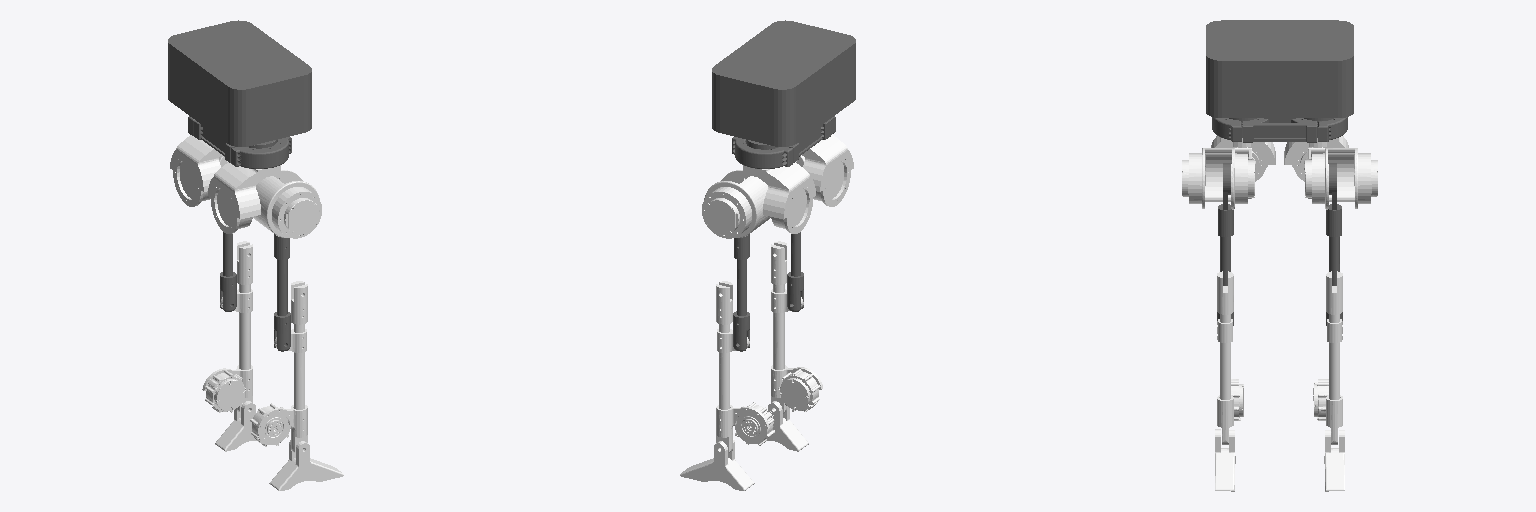
The robot description file, URDF, robot "YX-1":
<?xml version="1.0" encoding="utf-8"?>
<!-- This URDF was automatically created by SolidWorks to URDF Exporter! Originally created by Stephen Brawner (brawner@gmail.com) 
     Commit Version: 1.6.0-4-g7f85cfe  Build Version: 1.6.7995.38578
     For more information, please see http://wiki.ros.org/sw_urdf_exporter -->
<robot
  name="YX-1">
  <link
    name="base_link">
    <inertial>
      <origin
        xyz="3.52589881977561E-05 -1.21618571169921E-05 0.0608415705761093"
        rpy="0 0 0" />
      <mass
        value="3.08898899294127" />
      <inertia
        ixx="0.0219224912970811"
        ixy="-7.72865524978861E-09"
        ixz="7.16069762909807E-08"
        iyy="0.0130807934439612"
        iyz="-8.11668167240751E-07"
        izz="0.0264840545104941" />
    </inertial>
    <visual>
      <origin
        xyz="0 0 0"
        rpy="0 0 0" />
      <geometry>
        <mesh
          filename="package://YX-1/meshes/base_link.STL" />
      </geometry>
      <material
        name="">
        <color
          rgba="0.498039215686275 0.498039215686275 0.498039215686275 1" />
      </material>
    </visual>
    <collision>
      <origin
        xyz="0 0 0"
        rpy="0 0 0" />
      <geometry>
        <mesh
          filename="package://YX-1/meshes/base_link.STL" />
      </geometry>
    </collision>
  </link>
  <link
    name="left_yaw_Link">
    <inertial>
      <origin
        xyz="-0.0350037080503791 -0.000456591567301476 0.0372463735701034"
        rpy="0 0 0" />
      <mass
        value="0.395555517395699" />
      <inertia
        ixx="0.000620205903518703"
        ixy="1.29896843186358E-06"
        ixz="-0.000164142746894831"
        iyy="0.000520634597553032"
        iyz="-2.11739117204493E-06"
        izz="0.000575959612553862" />
    </inertial>
    <visual>
      <origin
        xyz="0 0 0"
        rpy="0 0 0" />
      <geometry>
        <mesh
          filename="package://YX-1/meshes/left_yaw_Link.STL" />
      </geometry>
      <material
        name="">
        <color
          rgba="1 1 1 1" />
      </material>
    </visual>
    <collision>
      <origin
        xyz="0 0 0"
        rpy="0 0 0" />
      <geometry>
        <mesh
          filename="package://YX-1/meshes/left_yaw_Link.STL" />
      </geometry>
    </collision>
  </link>
  <joint
    name="left_yaw_joint"
    type="revolute">
    <origin
      xyz="0.000 0.071324 -0.1324"
      rpy="0 0 0" />
    <parent
      link="base_link" />
    <child
      link="left_yaw_Link" />
    <axis
      xyz="0 0 1" />
    <limit
      lower="-0.43"
      upper="0.43"
      effort="20"
      velocity="20.94" />
  </joint>
  <link
    name="left_roll_Link">
    <inertial>
      <origin
        xyz="0.0490548209357755 0.0415197888784591 2.64908123400603E-06"
        rpy="0 0 0" />
      <mass
        value="0.614935433967936" />
      <inertia
        ixx="0.000679419603816697"
        ixy="-3.83852020499992E-05"
        ixz="1.42348828039911E-09"
        iyy="0.000915357380420451"
        iyz="-1.73941512323098E-08"
        izz="0.000649397167942527" />
    </inertial>
    <visual>
      <origin
        xyz="0 0 0"
        rpy="0 0 0" />
      <geometry>
        <mesh
          filename="package://YX-1/meshes/left_roll_Link.STL" />
      </geometry>
      <material
        name="">
        <color
          rgba="1 1 1 1" />
      </material>
    </visual>
    <collision>
      <origin
        xyz="0 0 0"
        rpy="0 0 0" />
      <geometry>
        <mesh
          filename="package://YX-1/meshes/left_roll_Link.STL" />
      </geometry>
    </collision>
  </link>
  <joint
    name="left_roll_joint"
    type="revolute">
    <origin
      xyz="-0.024498 -0.000 0"
      rpy="0 0 0" />
    <parent
      link="left_yaw_Link" />
    <child
      link="left_roll_Link" />
    <axis
      xyz="1 0. 0" />
    <limit
      lower="-0.32"
      upper="0.32"
      effort="33.5"
      velocity="21" />
  </joint>
  <link
    name="left_pitch_Link">
    <inertial>
      <origin
        xyz="-0.000175167874882766 0.0134604425761448 -0.121726001202457"
        rpy="0 0 0" />
      <mass
        value="0.191560909336763" />
      <inertia
        ixx="0.000309384466899546"
        ixy="-1.58911049667417E-07"
        ixz="-1.18273702367413E-07"
        iyy="0.000321577323382544"
        iyz="8.79412629086622E-06"
        izz="3.40195094387065E-05" />
    </inertial>
    <visual>
      <origin
        xyz="0 0 0"
        rpy="0 0 0" />
      <geometry>
        <mesh
          filename="package://YX-1/meshes/left_pitch_Link.STL" />
      </geometry>
      <material
        name="">
        <color
          rgba="0.498039215686275 0.498039215686275 0.498039215686275 1" />
      </material>
    </visual>
    <collision>
      <origin
        xyz="0 0 0"
        rpy="0 0 0" />
      <geometry>
        <mesh
          filename="package://YX-1/meshes/left_pitch_Link.STL" />
      </geometry>
    </collision>
  </link>
  <joint
    name="left_pitch_joint"
    type="revolute">
    <origin
      xyz="0.057794 0.016155 0"
      rpy="0 0 0" />
    <parent
      link="left_roll_Link" />
    <child
      link="left_pitch_Link" />
    <axis
      xyz="-0. 1.0 0" />
    <limit
      lower="-1.57"
      upper="1.57"
      effort="20"
      velocity="20.94" />
  </joint>
  <link
    name="left_knee_Link">
    <inertial>
      <origin
        xyz="0.0165804991795376 -0.0061062790901476 -0.0984502346022404"
        rpy="0 0 0" />
      <mass
        value="0.343457668179325" />
      <inertia
        ixx="0.000648958001306974"
        ixy="-2.59182818082286E-06"
        ixz="2.08662789533462E-05"
        iyy="0.000719817823739503"
        iyz="1.61695291664274E-06"
        izz="0.000108035679316845" />
    </inertial>
    <visual>
      <origin
        xyz="0 0 0"
        rpy="0 0 0" />
      <geometry>
        <mesh
          filename="package://YX-1/meshes/left_knee_Link.STL" />
      </geometry>
      <material
        name="">
        <color
          rgba="1 1 1 1" />
      </material>
    </visual>
    <collision>
      <origin
        xyz="0 0 0"
        rpy="0 0 0" />
      <geometry>
        <mesh
          filename="package://YX-1/meshes/left_knee_Link.STL" />
      </geometry>
    </collision>
  </link>
  <joint
    name="left_knee_joint"
    type="revolute">
    <origin
      xyz="-0.000 0.014999 -0.29322"
      rpy="0 0 0" />
    <parent
      link="left_pitch_Link" />
    <child
      link="left_knee_Link" />
    <axis
      xyz="-0. 1.0 0" />
    <limit
      lower="-0."
      upper="2.05"
      effort="20"
      velocity="20.94" />
  </joint>
  <link
    name="left_ankle_Link">
    <inertial>
      <origin
        xyz="0.0112721039303255 0.00112317679745352 -0.0497621748696437"
        rpy="0 0 0" />
      <mass
        value="0.231347089996303" />
      <inertia
        ixx="0.000117606919596764"
        ixy="-2.59166971451289E-06"
        ixz="2.8720704816765E-05"
        iyy="0.000307973388516554"
        iyz="6.95956113893796E-07"
        izz="0.000249737250704842" />
    </inertial>
    <visual>
      <origin
        xyz="0 0 0"
        rpy="0 0 0" />
      <geometry>
        <mesh
          filename="package://YX-1/meshes/left_ankle_Link.STL" />
      </geometry>
      <material
        name="">
        <color
          rgba="1 1 1 1" />
      </material>
    </visual>
    <collision>
      <origin
        xyz="0 0 0"
        rpy="0 0 0" />
      <geometry>
        <mesh
          filename="package://YX-1/meshes/left_ankle_Link.STL" />
      </geometry>
    </collision>
  </link>
  <joint
    name="left_ankle_joint"
    type="revolute">
    <origin
      xyz="0.036954 0.000 -0.226"
      rpy="0 0 0" />
    <parent
      link="left_knee_Link" />
    <child
      link="left_ankle_Link" />
    <axis
      xyz="0. 1. 0" />
    <limit
      lower="-0.87"
      upper="0.52"
      effort="12"
      velocity="31" />
  </joint>
  <link
    name="right_yaw_Link">
    <inertial>
      <origin
        xyz="-0.0350037081688261 0.000456591333932558 0.0372463737519437"
        rpy="0 0 0" />
      <mass
        value="0.395555520464489" />
      <inertia
        ixx="0.000620205896565006"
        ixy="-1.29910907708401E-06"
        ixz="-0.000164142746450215"
        iyy="0.000520634592407249"
        iyz="2.11734091953231E-06"
        izz="0.000575959618213611" />
    </inertial>
    <visual>
      <origin
        xyz="0 0 0"
        rpy="0 0 0" />
      <geometry>
        <mesh
          filename="package://YX-1/meshes/right_yaw_Link.STL" />
      </geometry>
      <material
        name="">
        <color
          rgba="1 1 1 1" />
      </material>
    </visual>
    <collision>
      <origin
        xyz="0 0 0"
        rpy="0 0 0" />
      <geometry>
        <mesh
          filename="package://YX-1/meshes/right_yaw_Link.STL" />
      </geometry>
    </collision>
  </link>
  <joint
    name="right_yaw_joint"
    type="revolute">
    <origin
      xyz="0.000 -0.071324 -0.1324"
      rpy="0 0 0" />
    <parent
      link="base_link" />
    <child
      link="right_yaw_Link" />
    <axis
      xyz="0 0 1" />
    <limit
      lower="-0.43"
      upper="0.43"
      effort="20"
      velocity="20.94" />
  </joint>
  <link
    name="right_roll_Link">
    <inertial>
      <origin
        xyz="0.049054834658441 -0.0415197890574546 2.47325582666824E-06"
        rpy="0 0 0" />
      <mass
        value="0.61493543396794" />
      <inertia
        ixx="0.000679419566639"
        ixy="3.83852029639554E-05"
        ixz="-1.40248579421081E-09"
        iyy="0.000915357380402942"
        iyz="-1.73858240682049E-08"
        izz="0.000649397205137738" />
    </inertial>
    <visual>
      <origin
        xyz="0 0 0"
        rpy="0 0 0" />
      <geometry>
        <mesh
          filename="package://YX-1/meshes/right_roll_Link.STL" />
      </geometry>
      <material
        name="">
        <color
          rgba="1 1 1 1" />
      </material>
    </visual>
    <collision>
      <origin
        xyz="0 0 0"
        rpy="0 0 0" />
      <geometry>
        <mesh
          filename="package://YX-1/meshes/right_roll_Link.STL" />
      </geometry>
    </collision>
  </link>
  <joint
    name="right_roll_joint"
    type="revolute">
    <origin
      xyz="-0.024498 0.000 0"
      rpy="0 0 0" />
    <parent
      link="right_yaw_Link" />
    <child
      link="right_roll_Link" />
    <axis
      xyz="1.0 -0. 0" />
    <limit
      lower="-0.32"
      upper="0.32"
      effort="33.5"
      velocity="21" />
  </joint>
  <link
    name="right_pitch_Link">
    <inertial>
      <origin
        xyz="-0.00017599416070248 -0.0134604890978961 -0.121725978273735"
        rpy="0 0 0" />
      <mass
        value="0.191560880366818" />
      <inertia
        ixx="0.000309384476776972"
        ixy="1.59229089346011E-07"
        ixz="-1.11180201651207E-07"
        iyy="0.000321577313248357"
        iyz="-8.79462487797804E-06"
        izz="3.40195124396643E-05" />
    </inertial>
    <visual>
      <origin
        xyz="0 0 0"
        rpy="0 0 0" />
      <geometry>
        <mesh
          filename="package://YX-1/meshes/right_pitch_Link.STL" />
      </geometry>
      <material
        name="">
        <color
          rgba="0.498039215686275 0.498039215686275 0.498039215686275 1" />
      </material>
    </visual>
    <collision>
      <origin
        xyz="0 0 0"
        rpy="0 0 0" />
      <geometry>
        <mesh
          filename="package://YX-1/meshes/right_pitch_Link.STL" />
      </geometry>
    </collision>
  </link>
  <joint
    name="right_pitch_joint"
    type="revolute">
    <origin
      xyz="0.057794 -0.016155 0"
      rpy="0 0 0" />
    <parent
      link="right_roll_Link" />
    <child
      link="right_pitch_Link" />
    <axis
      xyz="0. 1.0 0" />
    <limit
      lower="-1.57"
      upper="1.57"
      effort="20"
      velocity="20.94" />
  </joint>
  <link
    name="right_knee_Link">
    <inertial>
      <origin
        xyz="0.016555009805745 0.00415228094848838 -0.0986051277840649"
        rpy="0 0 0" />
      <mass
        value="0.343457675133855" />
      <inertia
        ixx="0.00064887135205594"
        ixy="-7.29118771975222E-07"
        ixz="1.94750783918288E-05"
        iyy="0.000719904486990651"
        iyz="1.0905276061046E-06"
        izz="0.00010803568489468" />
    </inertial>
    <visual>
      <origin
        xyz="0 0 0"
        rpy="0 0 0" />
      <geometry>
        <mesh
          filename="package://YX-1/meshes/right_knee_Link.STL" />
      </geometry>
      <material
        name="">
        <color
          rgba="1 1 1 1" />
      </material>
    </visual>
    <collision>
      <origin
        xyz="0 0 0"
        rpy="0 0 0" />
      <geometry>
        <mesh
          filename="package://YX-1/meshes/right_knee_Link.STL" />
      </geometry>
    </collision>
  </link>
  <joint
    name="right_knee_joint"
    type="revolute">
    <origin
      xyz="-0.000 -0.014999 -0.29322"
      rpy="0 0 0" />
    <parent
      link="right_pitch_Link" />
    <child
      link="right_knee_Link" />
    <axis
      xyz="0. 1.0 0" />
    <limit
      lower="-0."
      upper="2.05"
      effort="20"
      velocity="20.94" />
  </joint>
  <link
    name="right_ankle_Link">
    <inertial>
      <origin
        xyz="0.0112714795919435 -0.00117105353124788 -0.0497621746296486"
        rpy="0 0 0" />
      <mass
        value="0.231347096509017" />
      <inertia
        ixx="0.000117601285625093"
        ixy="2.37563889317818E-06"
        ixz="2.87290884249692E-05"
        iyy="0.000307979035082662"
        iyz="-5.34240202821934E-08"
        izz="0.000249737263074448" />
    </inertial>
    <visual>
      <origin
        xyz="0 0 0"
        rpy="0 0 0" />
      <geometry>
        <mesh
          filename="package://YX-1/meshes/right_ankle_Link.STL" />
      </geometry>
      <material
        name="">
        <color
          rgba="1 1 1 1" />
      </material>
    </visual>
    <collision>
      <origin
        xyz="0 0 0"
        rpy="0 0 0" />
      <geometry>
        <mesh
          filename="package://YX-1/meshes/right_ankle_Link.STL" />
      </geometry>
    </collision>
  </link>
  <joint
    name="right_ankle_joint"
    type="revolute">
    <origin
      xyz="0.036954 -0.00 -0.226"
      rpy="0 0 0" />
    <parent
      link="right_knee_Link" />
    <child
      link="right_ankle_Link" />
    <axis
      xyz="0. 1.0 0" />
    <limit
      lower="-0.87"
      upper="0.52"
      effort="12"
      velocity="31" />
  </joint>
</robot>

--- Render facts (derived) ---
3 views of the same robot in one strip: view 1: azimuth 30°, elevation 25°; view 2: azimuth 150°, elevation 25°; view 3: azimuth 270°, elevation 25° (orthographic).
Robot: YX-1 — 11 links, 10 joints (10 revolute); root link base_link; default pose: every joint at zero.
Visible links, largest first — view 1: base_link, right_knee_Link, left_knee_Link, right_roll_Link, right_yaw_Link, left_yaw_Link, right_ankle_Link, right_pitch_Link, left_ankle_Link, left_pitch_Link; view 2: base_link, left_knee_Link, right_knee_Link, left_roll_Link, left_yaw_Link, right_yaw_Link, left_ankle_Link, left_pitch_Link, right_ankle_Link, right_pitch_Link; view 3: base_link, left_roll_Link, right_roll_Link, left_knee_Link, right_knee_Link, left_pitch_Link, right_pitch_Link, right_ankle_Link, left_ankle_Link, right_yaw_Link, left_yaw_Link.
Link boxes in pixels (x1,y1,x2,y2): base_link: (168, 20, 311, 168); right_knee_Link: (250, 281, 307, 453); left_knee_Link: (202, 241, 252, 413); right_roll_Link: (253, 170, 321, 238); right_yaw_Link: (208, 162, 280, 233); left_yaw_Link: (170, 135, 221, 206); right_ankle_Link: (269, 440, 343, 490); right_pitch_Link: (274, 234, 290, 351); left_ankle_Link: (215, 401, 288, 451); left_pitch_Link: (220, 232, 236, 311); base_link: (712, 20, 855, 168); left_knee_Link: (716, 281, 774, 453); right_knee_Link: (771, 241, 822, 413); left_roll_Link: (702, 170, 770, 238); left_yaw_Link: (743, 162, 815, 233); right_yaw_Link: (802, 134, 853, 206); left_ankle_Link: (680, 439, 754, 490); left_pitch_Link: (733, 234, 749, 351); right_ankle_Link: (735, 401, 808, 451); right_pitch_Link: (787, 232, 803, 311); base_link: (1206, 20, 1353, 142); left_roll_Link: (1305, 148, 1377, 209); right_roll_Link: (1182, 148, 1254, 209); left_knee_Link: (1313, 271, 1342, 444); right_knee_Link: (1217, 271, 1243, 444); left_pitch_Link: (1326, 163, 1342, 325); right_pitch_Link: (1217, 163, 1233, 325); right_ankle_Link: (1215, 429, 1235, 491); left_ankle_Link: (1324, 430, 1344, 491); right_yaw_Link: (1211, 136, 1275, 181); left_yaw_Link: (1284, 136, 1348, 181).
Bounding box of the posed robot: 0.2473 × 0.3701 × 0.8666 m (x, y, z).
11 mesh visuals loaded from 11 distinct referenced files (11 binary STL).
